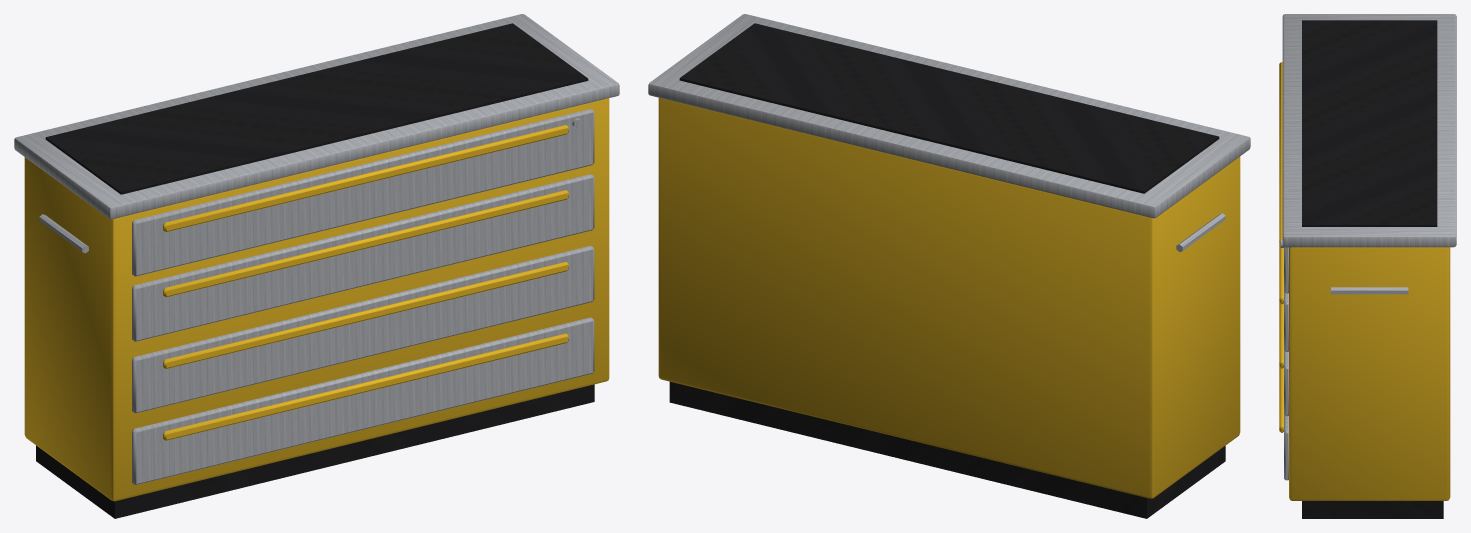
The model's file is armario-ferramentas.glb.
The picture shows the model from 3 angles, left to right: view 1: azimuth 30°, elevation 25°; view 2: azimuth 150°, elevation 25°; view 3: azimuth 270°, elevation 25°; orthographic projection. The views are drawn at different scales.
Parts seen in each view (by area): view 1: corpo, tapete, gaveta.001, gaveta, gaveta.002, gaveta.003, tampo, rodape, puxador.001, puxador.003, puxador, puxador.002; view 2: corpo, tapete, tampo, rodape; view 3: corpo, tapete, tampo, rodape, puxador.003, alca.001, gaveta, gaveta.001, puxador, puxador.001, gaveta.002, puxador.002 (+1 smaller).
Part boxes in pixels (bbox=[...]): corpo: bbox=[24, 98, 609, 501]; tapete: bbox=[45, 23, 588, 194]; gaveta.001: bbox=[132, 245, 594, 413]; gaveta: bbox=[132, 317, 594, 485]; gaveta.002: bbox=[132, 174, 594, 341]; gaveta.003: bbox=[132, 109, 594, 276]; tampo: bbox=[14, 14, 619, 219]; rodape: bbox=[36, 384, 594, 518]; puxador.001: bbox=[163, 262, 568, 368]; puxador.003: bbox=[163, 125, 568, 232]; puxador: bbox=[163, 333, 568, 440]; puxador.002: bbox=[163, 190, 568, 297]; corpo: bbox=[658, 98, 1240, 498]; tapete: bbox=[679, 23, 1219, 193]; tampo: bbox=[648, 14, 1250, 218]; rodape: bbox=[669, 381, 1225, 518]; corpo: bbox=[1289, 247, 1450, 500]; tapete: bbox=[1302, 20, 1437, 226]; tampo: bbox=[1282, 14, 1456, 247]; rodape: bbox=[1302, 501, 1443, 518]; puxador.003: bbox=[1279, 62, 1282, 244]; alca.001: bbox=[1331, 287, 1408, 294]; gaveta: bbox=[1284, 415, 1288, 480]; gaveta.001: bbox=[1284, 350, 1288, 416]; puxador: bbox=[1279, 367, 1283, 432]; puxador.001: bbox=[1279, 303, 1283, 368]; gaveta.002: bbox=[1284, 292, 1288, 351]; puxador.002: bbox=[1279, 244, 1283, 304].
Bounding box in the file's own units: 1.64 × 0.997 × 0.55.
Materials: 3 (2 with a texture image).
